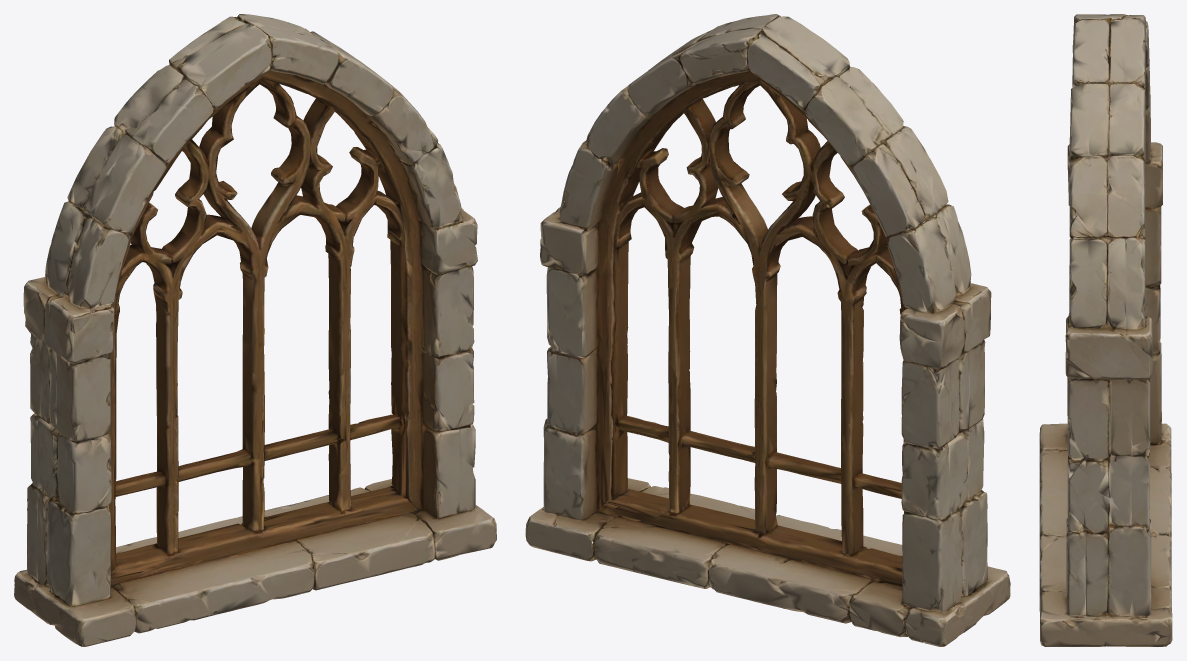
File: study_window_a_v1.glb
3 views of the same model, side by side, from view 1: azimuth 30°, elevation 25°; view 2: azimuth 150°, elevation 25°; view 3: azimuth 270°, elevation 25° (orthographic). The views are drawn at different scales.
Visible parts, largest first — view 1: tripo_node_e3dc363c-c698-47c4-bc66-81ffc39a0d53; view 2: tripo_node_e3dc363c-c698-47c4-bc66-81ffc39a0d53; view 3: tripo_node_e3dc363c-c698-47c4-bc66-81ffc39a0d53.
Boxes of the visible parts, x1,y1,x2,y2 form: tripo_node_e3dc363c-c698-47c4-bc66-81ffc39a0d53: (14, 14, 496, 646); tripo_node_e3dc363c-c698-47c4-bc66-81ffc39a0d53: (525, 14, 1010, 646); tripo_node_e3dc363c-c698-47c4-bc66-81ffc39a0d53: (1039, 14, 1172, 646).
Bounding box in the file's own units: 0.7826 × 0.9788 × 0.222.
Materials: 1 (1 with a texture image).
